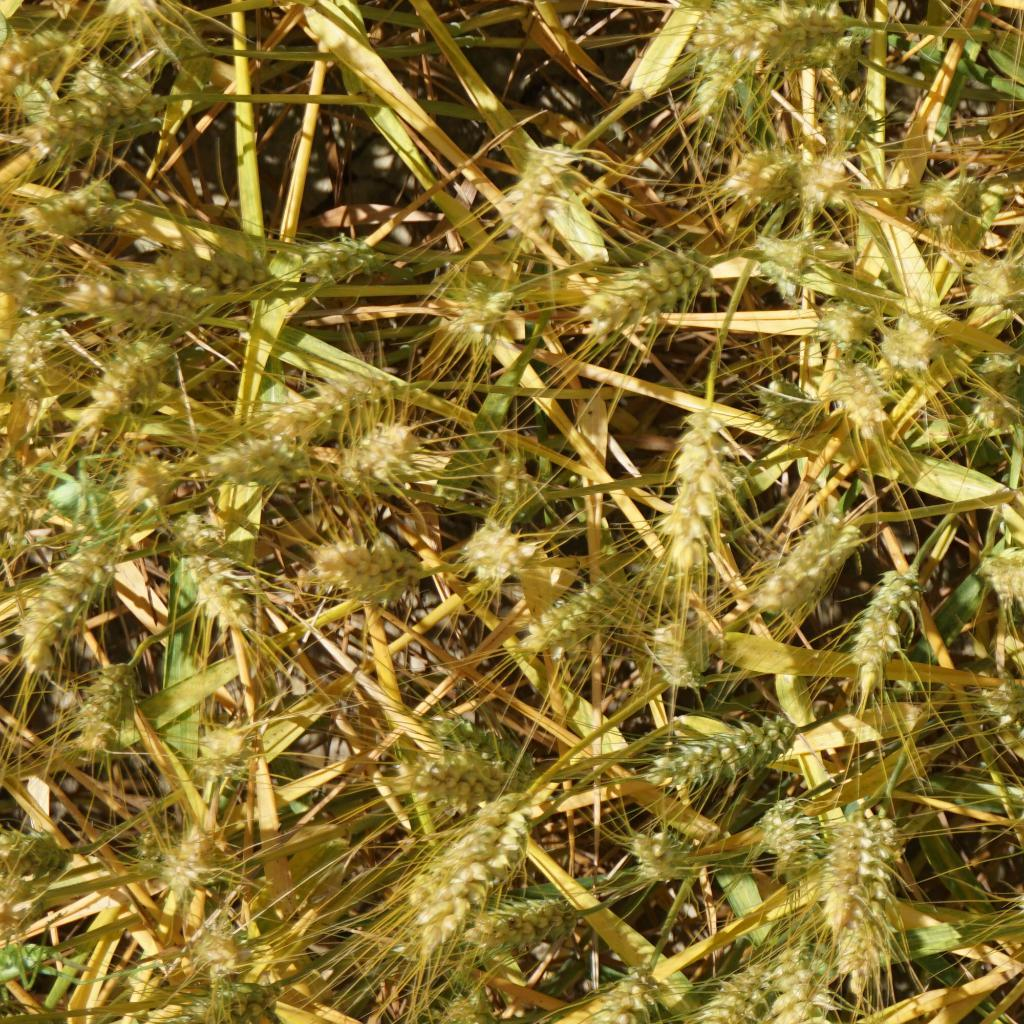0-0: (10, 540, 129, 679), (397, 813, 534, 929), (64, 329, 177, 452), (381, 737, 553, 817), (38, 70, 164, 164), (384, 793, 501, 894), (270, 367, 415, 445), (567, 245, 704, 325), (662, 403, 733, 557), (153, 228, 283, 312), (14, 155, 131, 248), (57, 262, 203, 329), (850, 813, 902, 995), (820, 809, 875, 971), (742, 0, 859, 73), (657, 719, 792, 782), (841, 579, 915, 683), (757, 518, 847, 603), (304, 540, 418, 606), (806, 349, 896, 432), (457, 892, 579, 953), (494, 128, 569, 227), (69, 657, 142, 756), (526, 582, 617, 660), (200, 429, 322, 487), (439, 706, 537, 778), (142, 820, 224, 905), (343, 420, 433, 494), (0, 305, 73, 394), (753, 788, 817, 885), (435, 273, 518, 347), (179, 564, 270, 630), (626, 820, 701, 900), (292, 233, 390, 291), (191, 710, 265, 785), (650, 622, 719, 698), (459, 515, 546, 575), (677, 0, 748, 72), (969, 352, 1024, 444), (916, 162, 987, 233), (739, 225, 819, 286), (879, 304, 954, 369), (780, 150, 852, 215), (941, 249, 1024, 305), (483, 448, 548, 518), (977, 657, 1024, 750), (16, 19, 91, 75), (158, 515, 242, 563), (766, 957, 824, 1024), (0, 825, 69, 881), (734, 138, 798, 198), (173, 918, 248, 969), (747, 358, 798, 427), (974, 550, 1024, 615), (588, 968, 644, 1024), (207, 969, 265, 1020), (124, 451, 179, 504), (703, 968, 754, 1024), (813, 304, 867, 343), (691, 76, 737, 120), (89, 0, 166, 19)
